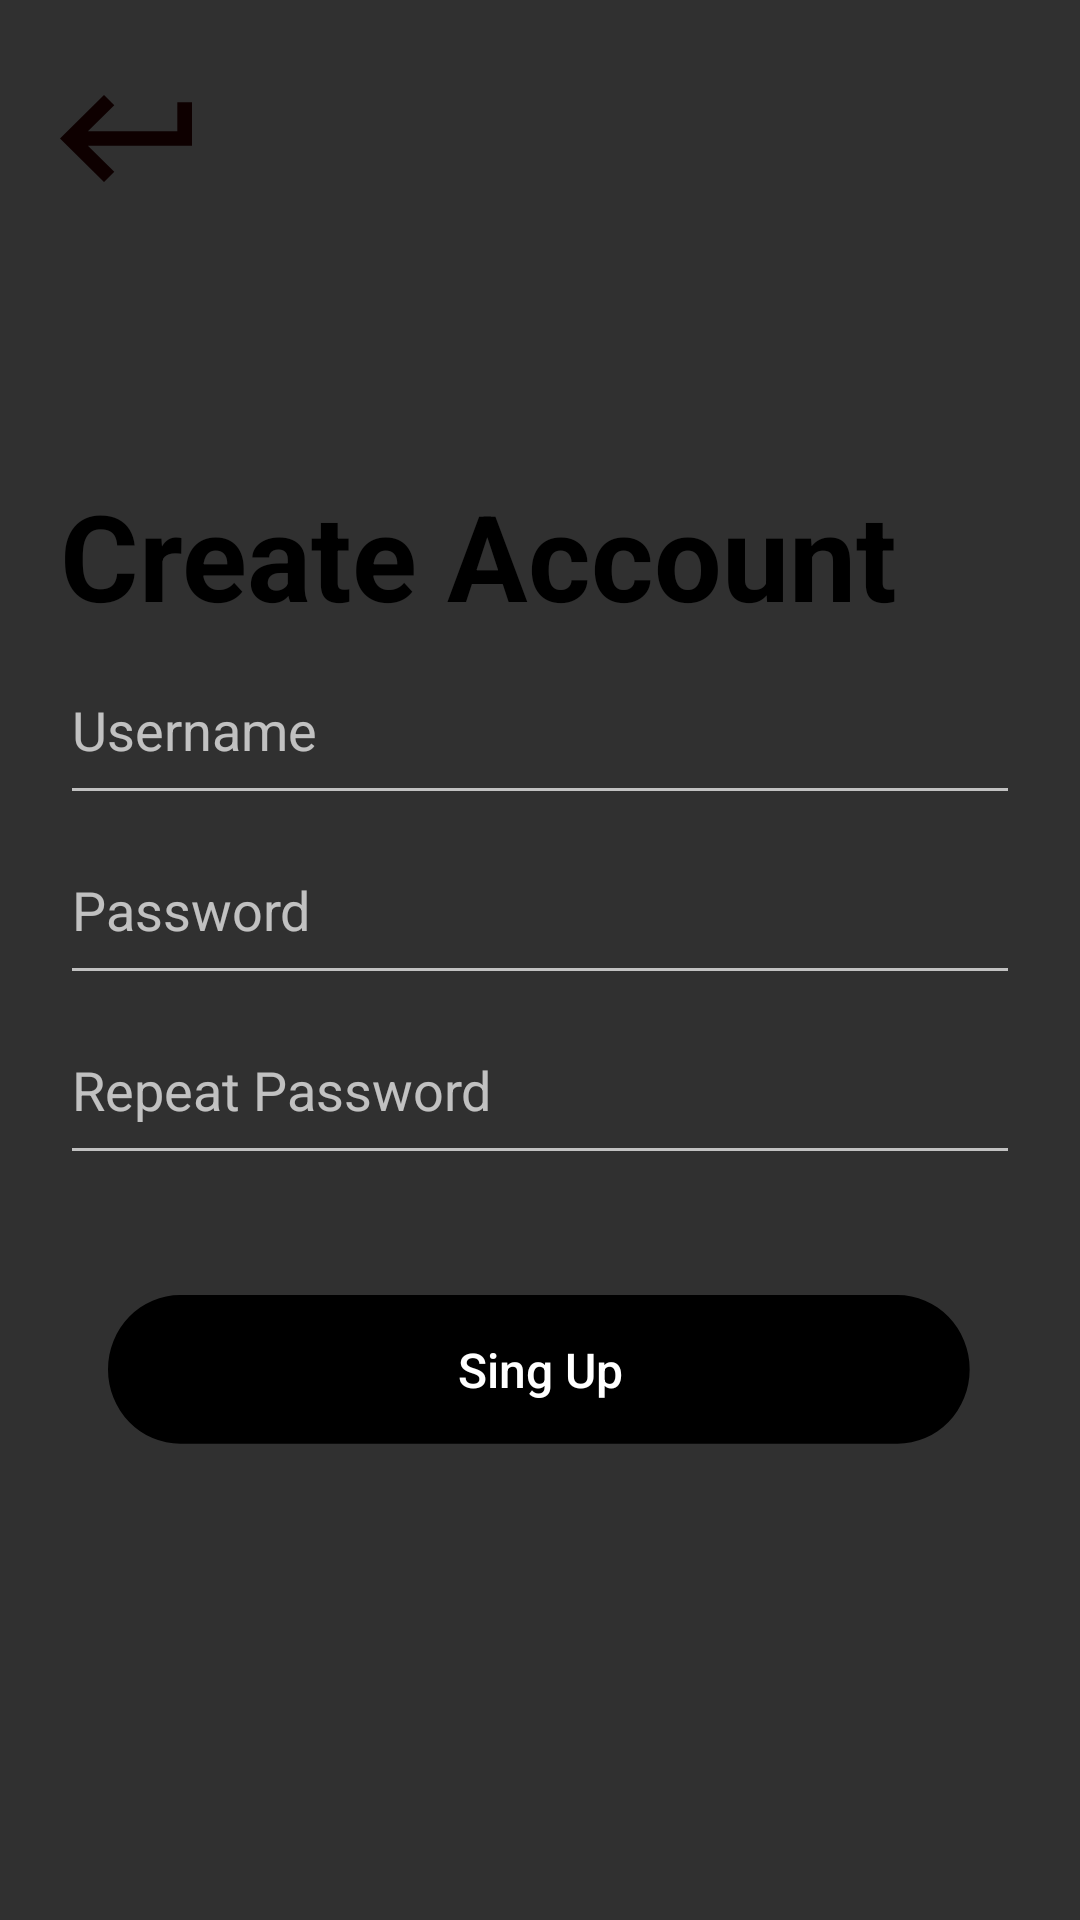

Icon click points for this 1080 × 1920 phone screenshot, format point (x, y):
Return to main window: point (126, 138)
